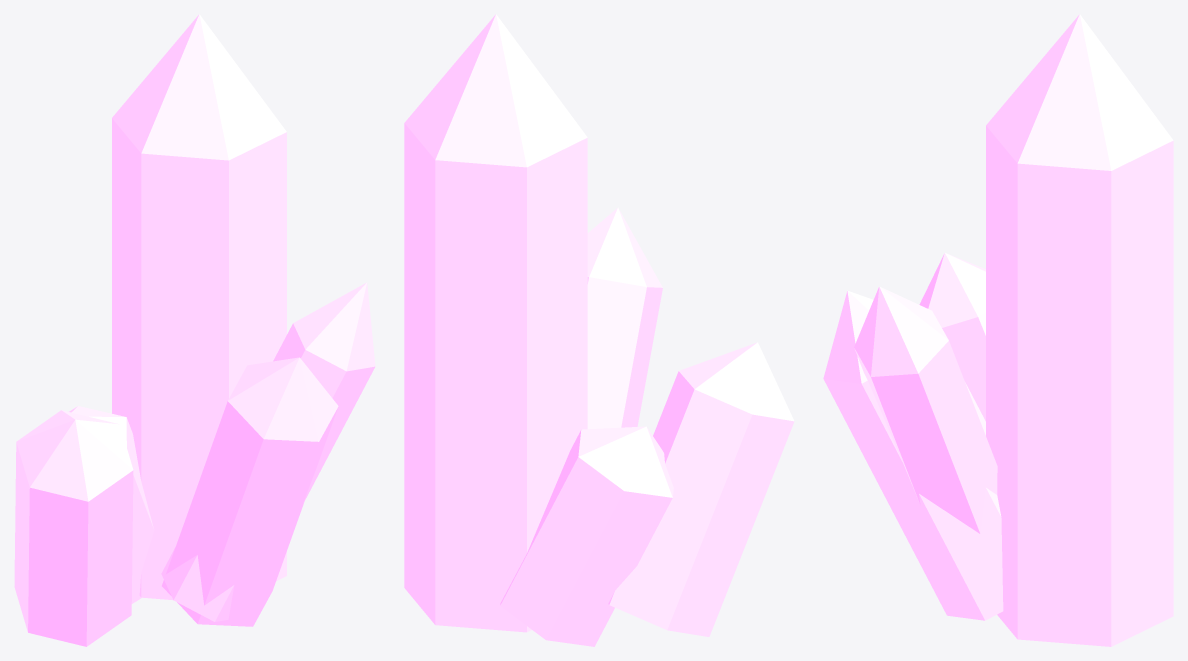
File: prop_crystal.glb
The picture shows the model from 3 angles, left to right: view 1: azimuth 30°, elevation 25°; view 2: azimuth 150°, elevation 25°; view 3: azimuth 270°, elevation 25°; orthographic projection. The views are drawn at different scales.
Parts seen in each view (by area): view 1: prop_crystal; view 2: prop_crystal; view 3: prop_crystal.
Boxes of the visible parts, bbox=[...] form: prop_crystal: bbox=[14, 14, 375, 646]; prop_crystal: bbox=[404, 14, 794, 646]; prop_crystal: bbox=[823, 14, 1173, 646].
Bounding box in the file's own units: 0.3274 × 0.5633 × 0.2935.
